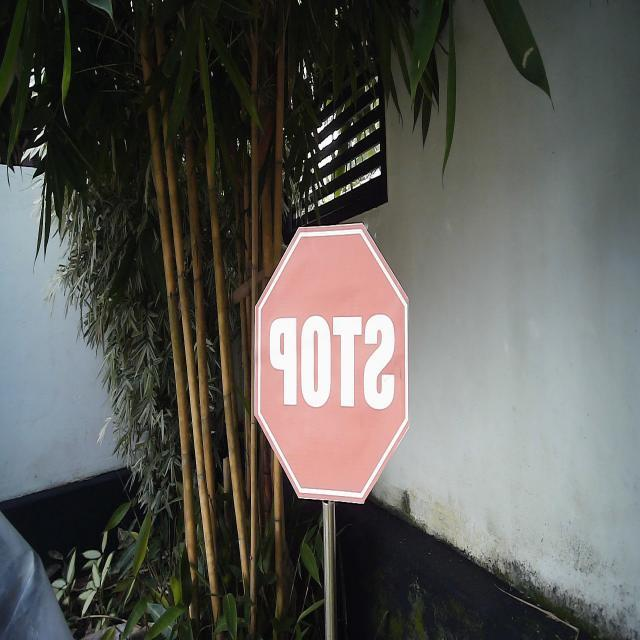stop: (252, 221, 410, 507)
